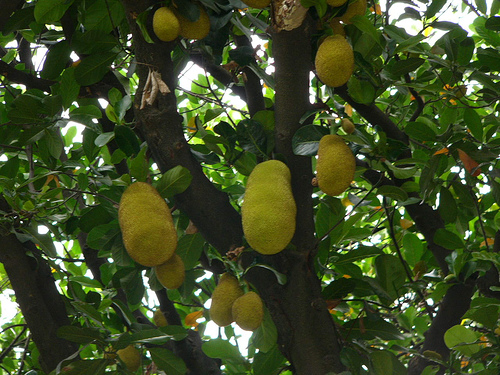jackfruit: (240, 159, 297, 256)
